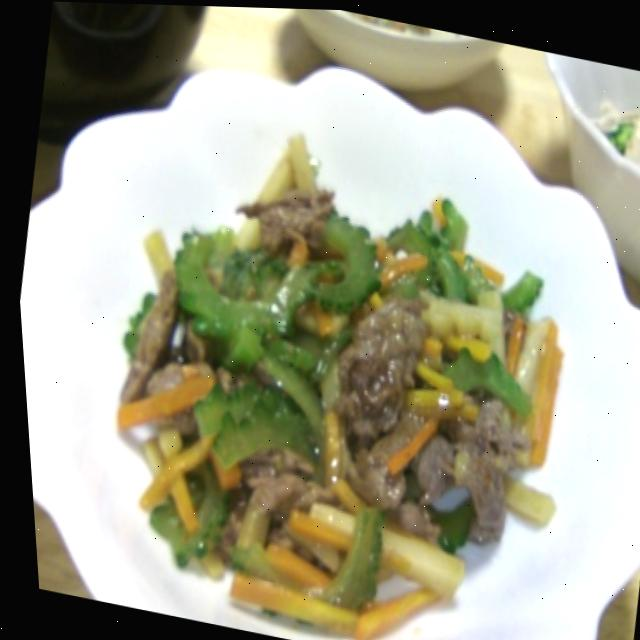牛肉菜式: (2, 31, 640, 640)
